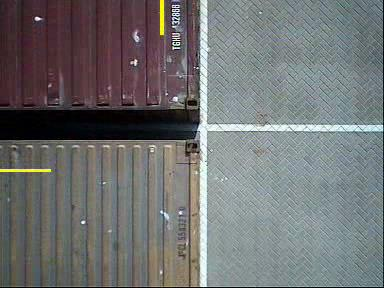groundmarker_2: (193, 158, 257, 231)
